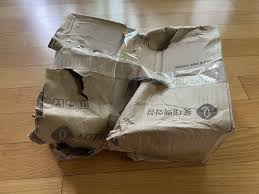damaged package: (29, 13, 220, 163)
